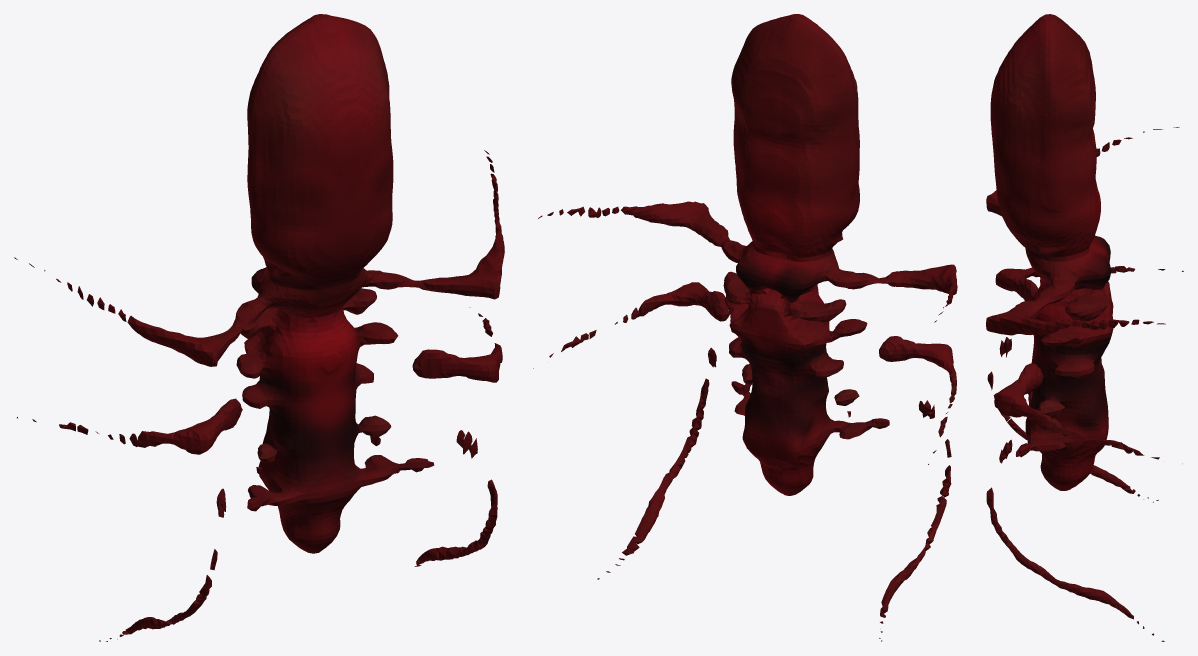
The model's file is ant.glb.
The picture shows the model from 3 angles, left to right: view 1: azimuth 30°, elevation 25°; view 2: azimuth 150°, elevation 25°; view 3: azimuth 270°, elevation 25°; orthographic projection. The views are drawn at different scales.
Visible parts, largest first — view 1: defaultobject; view 2: defaultobject; view 3: defaultobject.
Boxes of the visible parts, <box> form: defaultobject: <box>14,14,504,641</box>; defaultobject: <box>533,14,957,641</box>; defaultobject: <box>986,14,1183,641</box>.
Bounding box in the file's own units: 1.48 × 1.94 × 0.6271.
